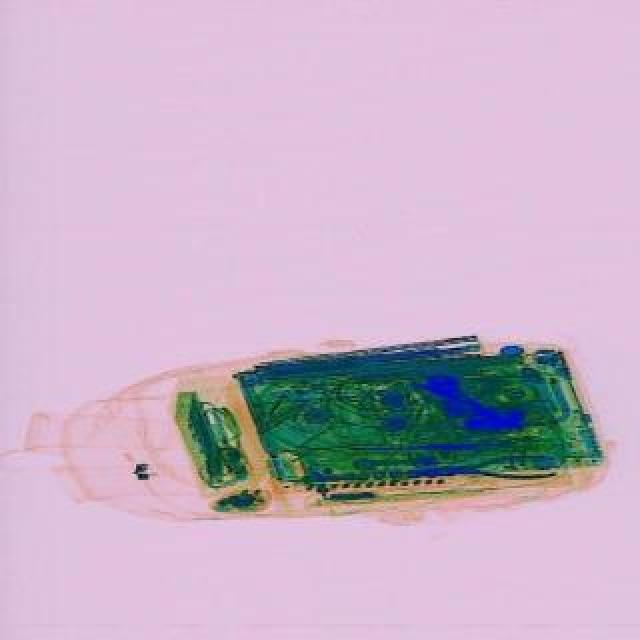wrench: (428, 450, 552, 486)
